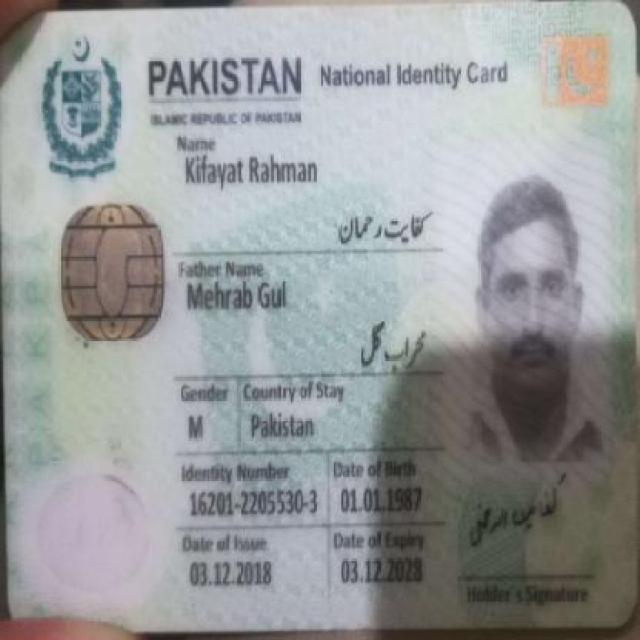Front: (6, 5, 628, 626)
